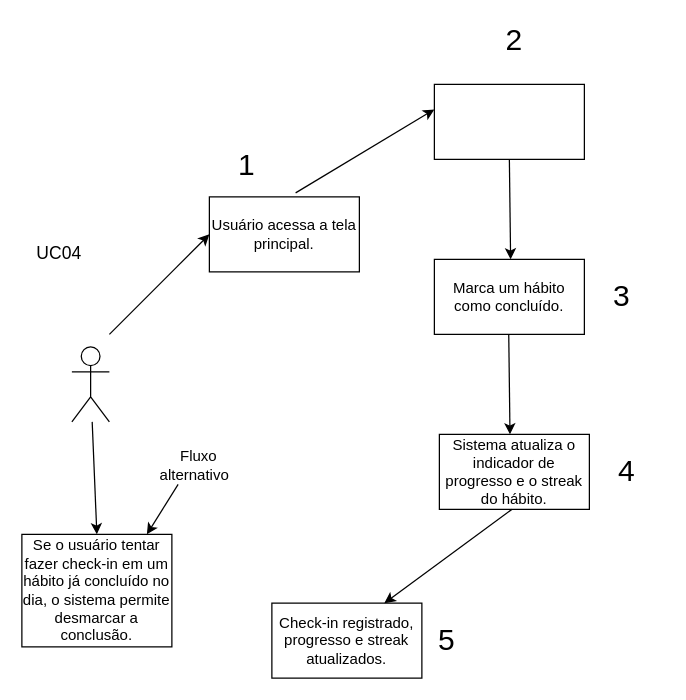
Some shapes in this 686 by 700 pixel diagram are drawn without their labels. The centre of each missing label's shape, as x and y in pixels:
Usuário: the point at 90,384
Visualiza a lista de hábitos do dia.: the point at 508,121
